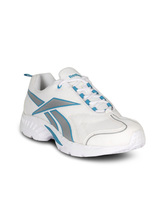shoes: (17, 68, 148, 158)
